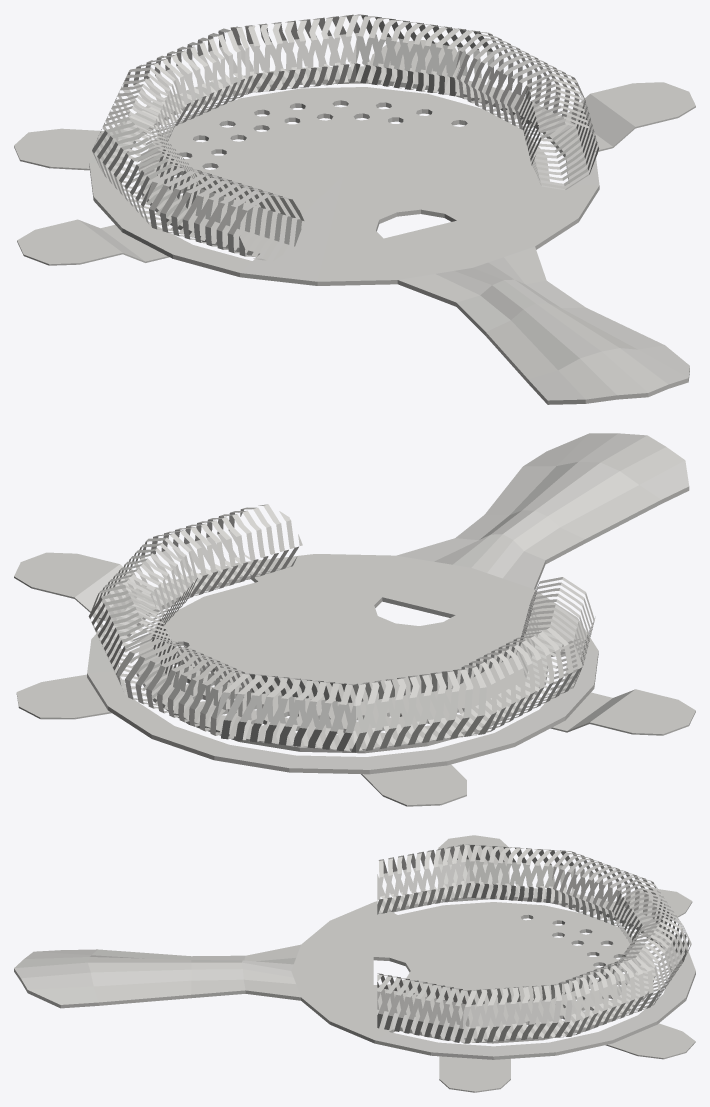
The model's file is Barstrainer.fbx.
The picture shows the model from 3 angles, top to bottom: view 1: azimuth 30°, elevation 25°; view 2: azimuth 150°, elevation 25°; view 3: azimuth 270°, elevation 25°; orthographic projection. The views are drawn at different scales.
Visible parts, largest first — view 1: Stainer; view 2: Stainer; view 3: Stainer.
Boxes of the visible parts, x1,y1,x2,y2 form: Stainer: [14, 14, 695, 404]; Stainer: [14, 433, 695, 806]; Stainer: [14, 835, 695, 1092].
Bounding box in the file's own units: 0.1382 × 0.0159 × 0.1553.
1 material, 1 textured.
